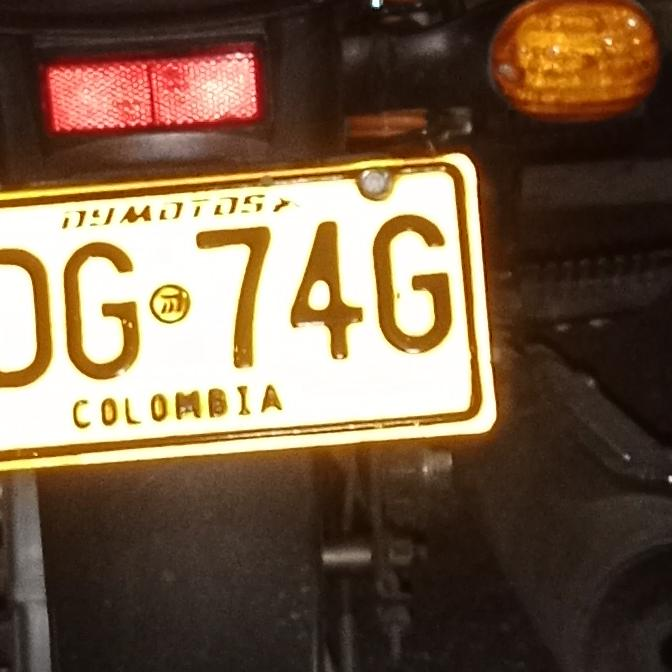plates: (0, 160, 485, 463)
